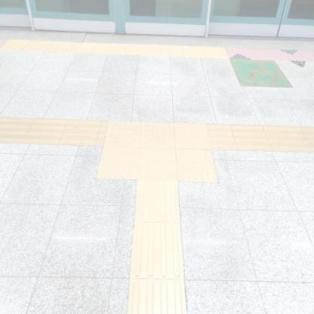Podoctatil: (82, 98, 232, 210), (128, 180, 189, 314), (2, 38, 313, 62), (211, 121, 314, 155), (0, 112, 99, 145)
